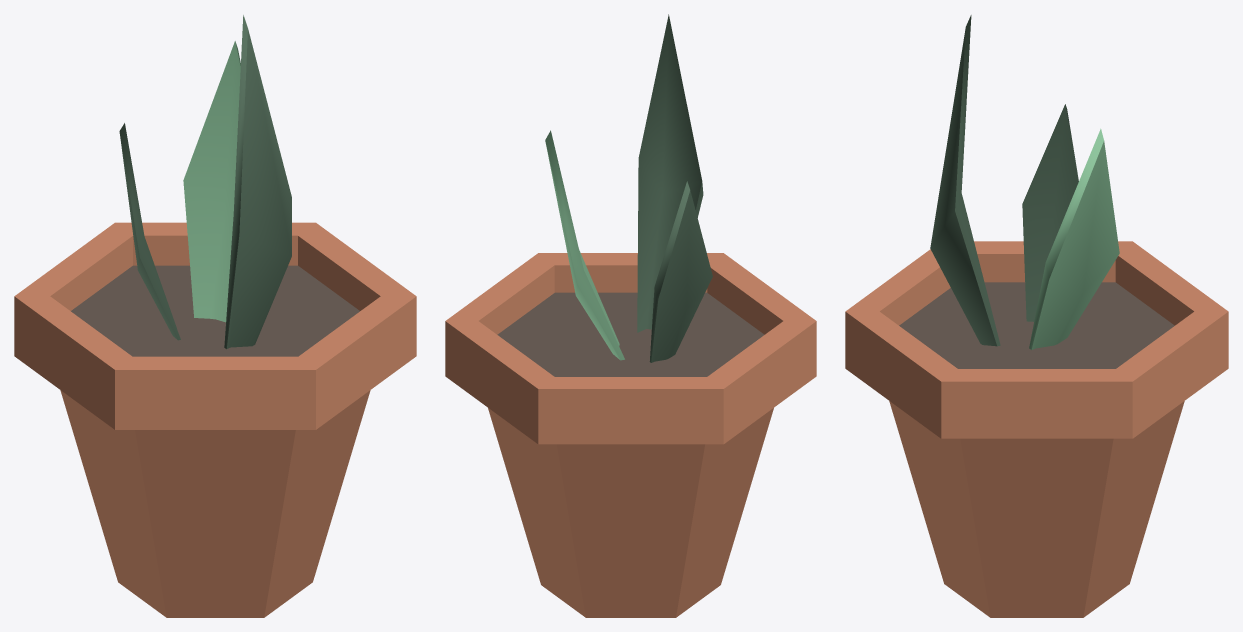
The model's file is flowerpot.glb.
3 views of the same model, side by side, from view 1: azimuth 30°, elevation 25°; view 2: azimuth 150°, elevation 25°; view 3: azimuth 270°, elevation 25° (orthographic). The views are drawn at different scales.
Visible parts, largest first — view 1: flowerpot-ver2; view 2: flowerpot-ver2; view 3: flowerpot-ver2.
Part boxes in pixels (bbox=[...]): flowerpot-ver2: bbox=[14, 15, 416, 617]; flowerpot-ver2: bbox=[445, 14, 816, 617]; flowerpot-ver2: bbox=[845, 15, 1228, 617].
Size of the model in its own units: 0.2826 by 0.5328 by 0.3264.
Materials: 1 (1 with a texture image).
